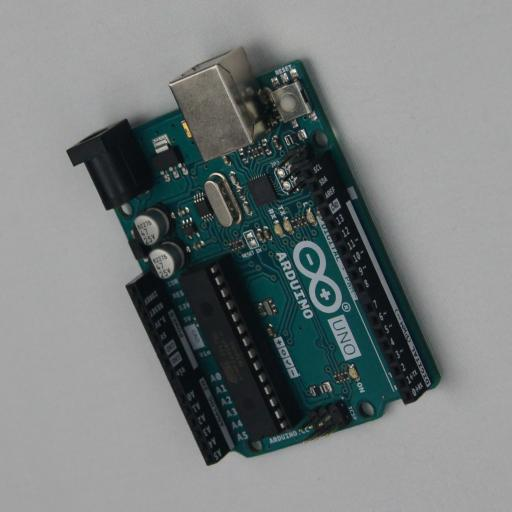Arduino Uno -Green-: (66, 46, 444, 466)
